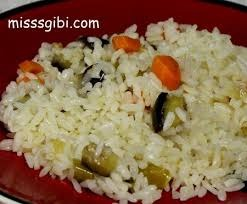pirinc_pilavi: (0, 0, 246, 99)
